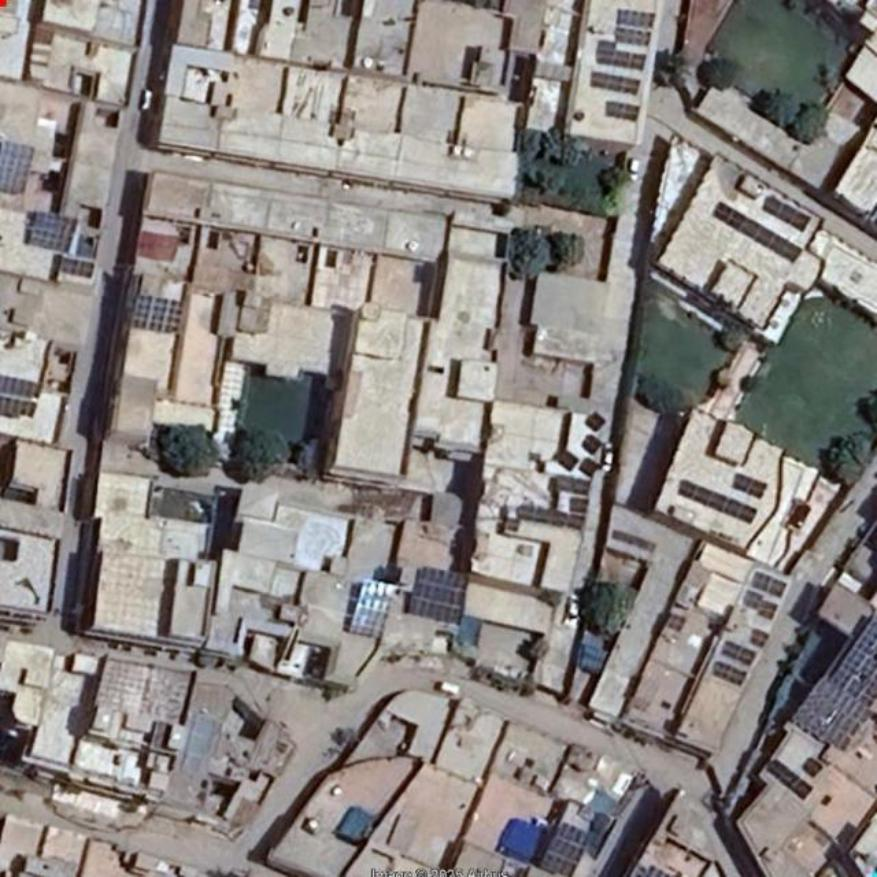Solarpanel: (790, 614, 876, 750), (713, 201, 801, 261), (676, 478, 758, 524), (411, 568, 470, 622), (538, 819, 588, 875), (351, 581, 397, 635), (27, 210, 77, 251), (133, 292, 183, 333), (768, 759, 815, 802), (0, 139, 33, 197), (0, 375, 40, 420), (765, 194, 810, 232), (516, 505, 582, 529), (614, 7, 655, 43), (591, 71, 638, 94), (597, 46, 644, 68), (742, 591, 778, 616), (710, 663, 746, 687), (751, 572, 785, 597), (722, 641, 755, 666), (733, 472, 766, 496), (605, 100, 638, 123), (557, 474, 591, 495), (750, 627, 768, 647)
